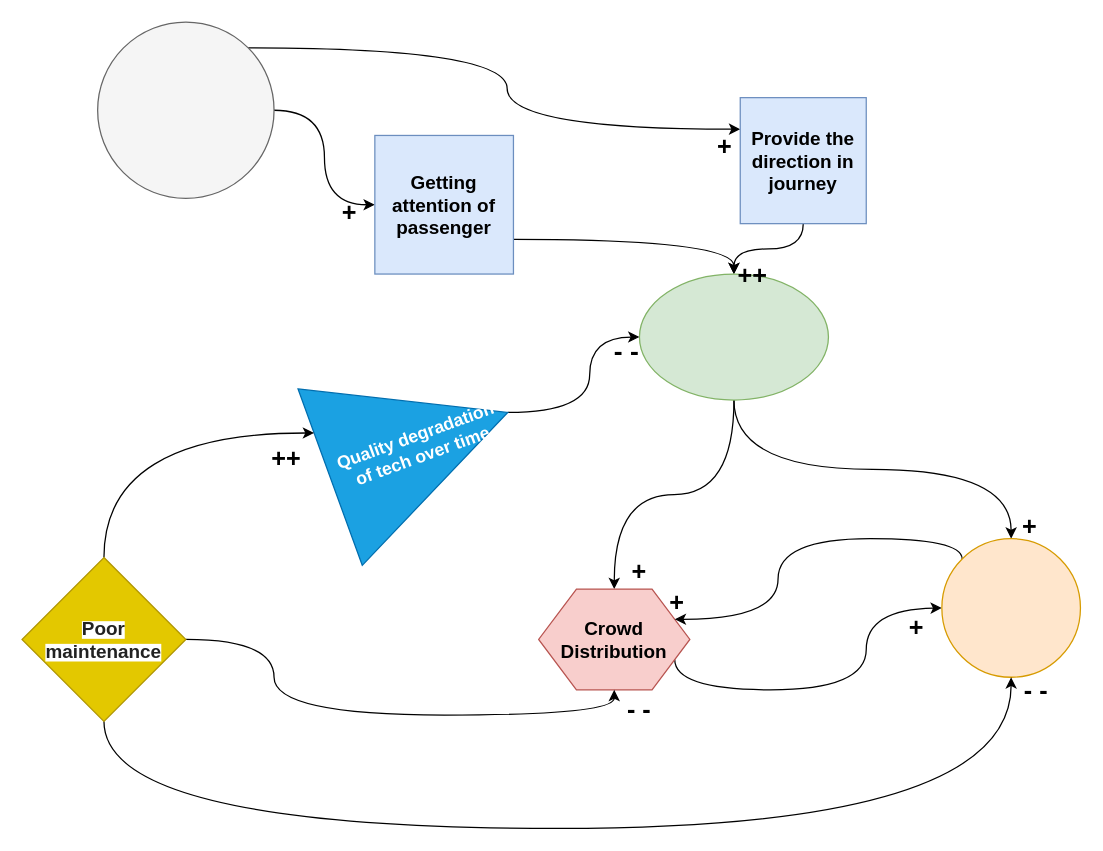
The diagram is 1103 pixels wide and 851 high, and some of its shapes have lost their labels. The box of each missing label's shape, as (x1, y1, x2, y2) in pixels:
Audio system in Railways, Airways, Waterways: (96, 21, 274, 198)
Good audio quality and its' parameters: (638, 273, 828, 400)
Passengers' Engagement: (941, 537, 1080, 677)
